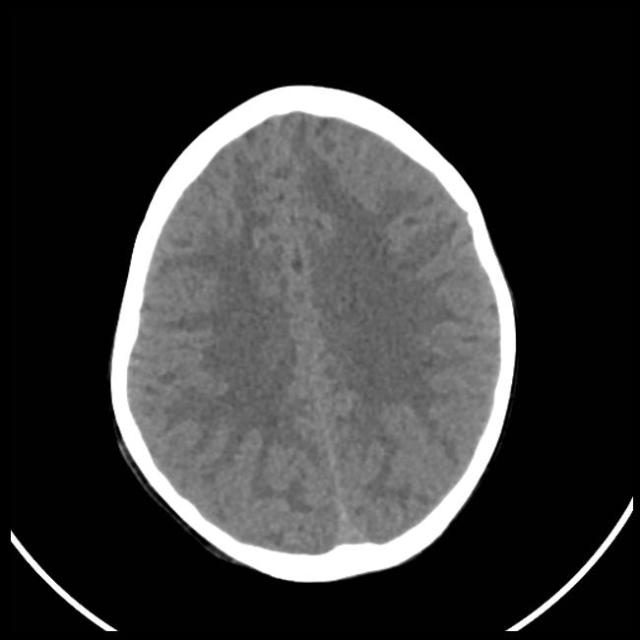lesion: (107, 87, 519, 576)
